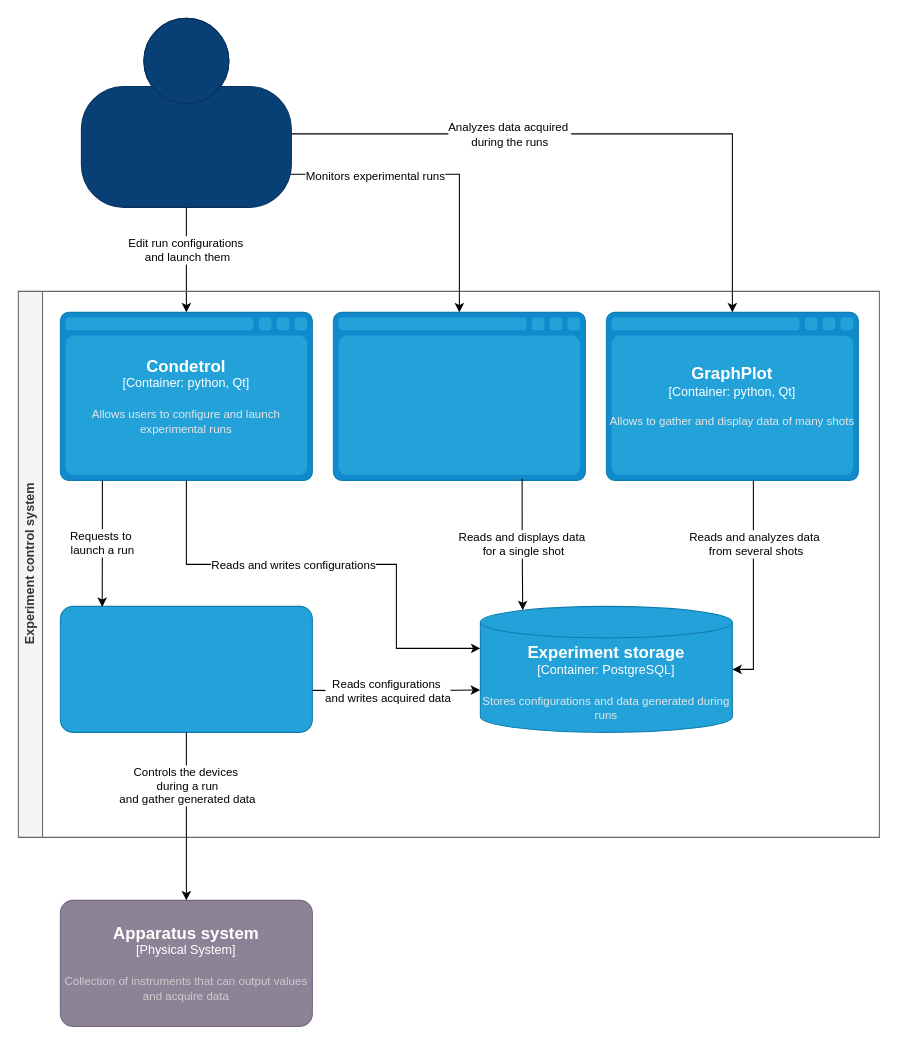
This 898x1045 diagram has some shape labels left out. Here are the shapes that lost their labels. From the top down, the centre of each, then its label:
At [185,112]: "User [Person] Someone that wants to automate control of the experiment".
At [458,395]: "SnapShot [Container: python, Qt] Allows to view data generated for a single shot".
At [185,668]: "Experiment manager [Container: python] Run sequences on the apparatus".
